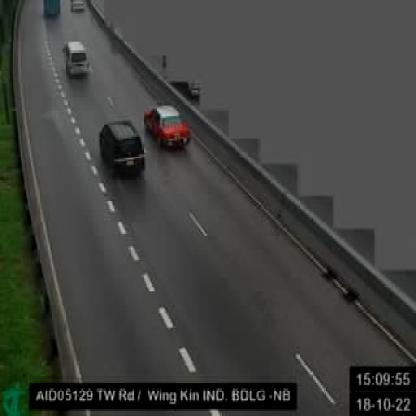Car: (99, 119, 147, 184), (144, 102, 192, 154), (62, 39, 90, 80), (69, 1, 85, 16)
Truck: (43, 0, 63, 20)
